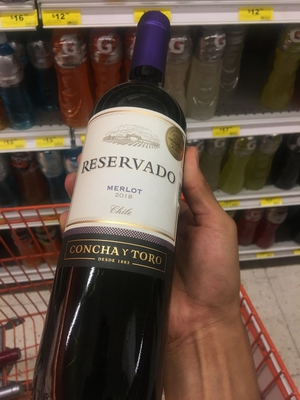reservado merlot: (63, 20, 201, 400)
